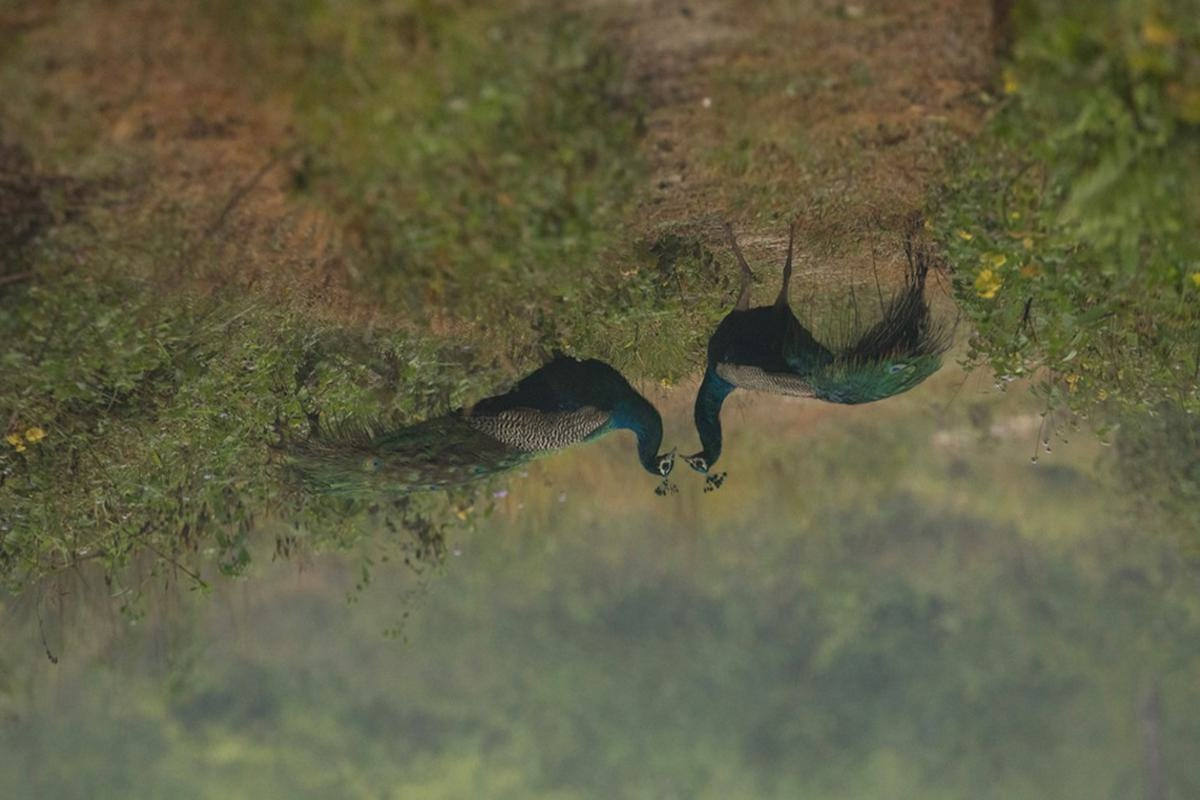peacock: (678, 194, 1001, 510), (311, 310, 679, 495)
